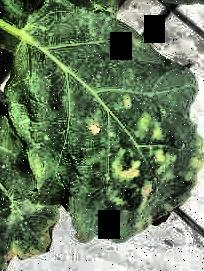Non-critical Stress: (0, 0, 203, 271)
